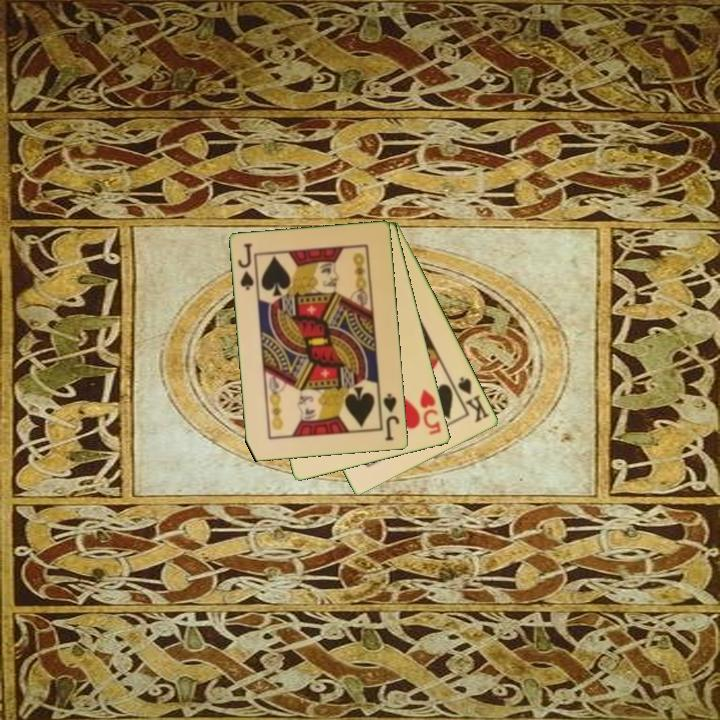5h: (417, 386, 444, 438)
Js: (235, 240, 260, 294), (380, 390, 402, 444)
Ks: (450, 373, 493, 426)
